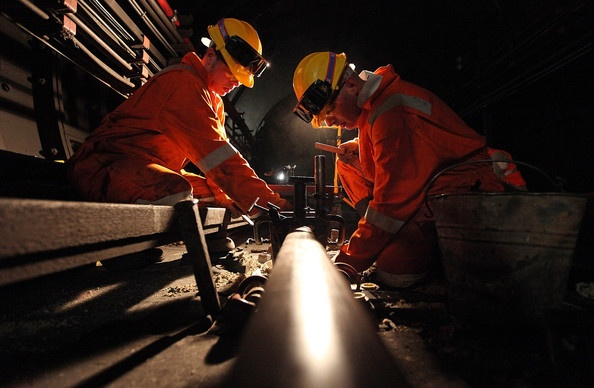yellow: (291, 53, 362, 127), (202, 19, 262, 95)
